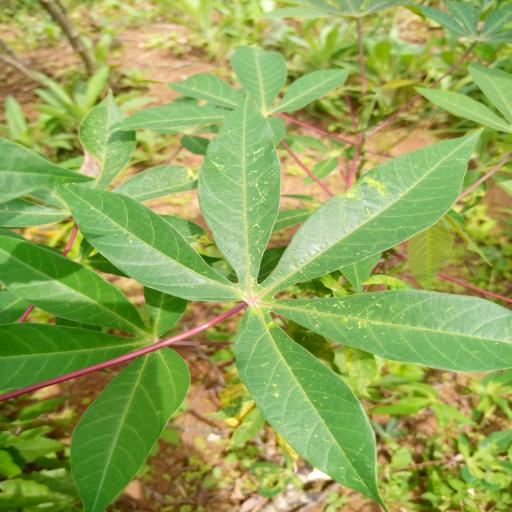Cassava_Healthy: (60, 97, 512, 506), (0, 212, 203, 511)
